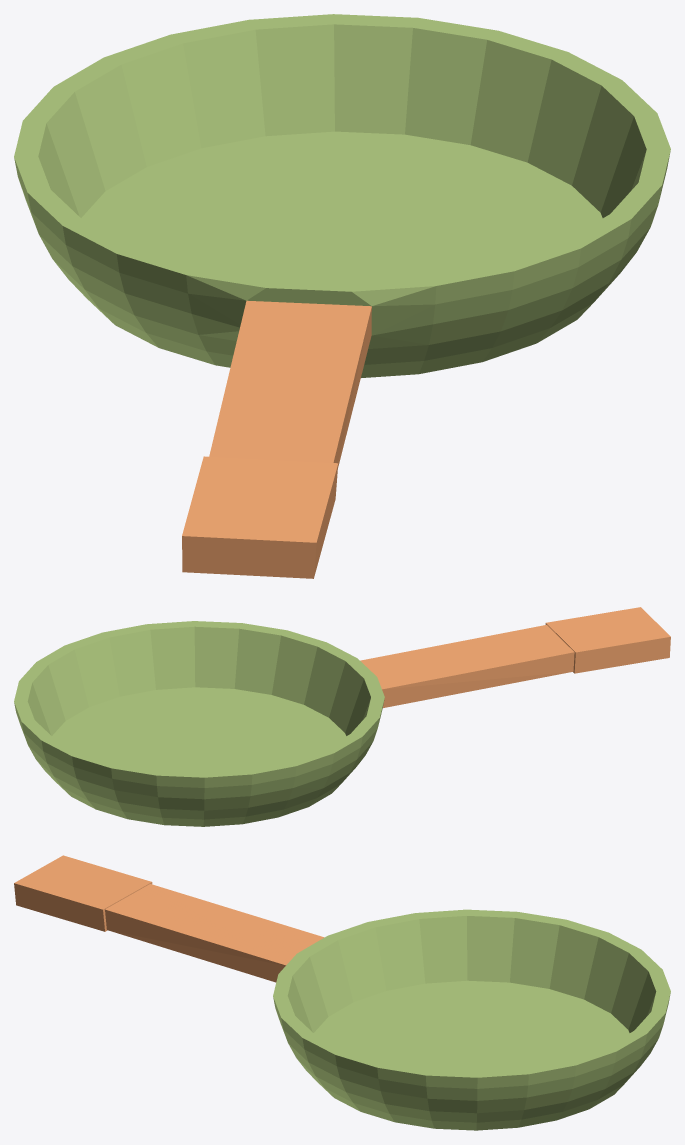
Rendered from pan.obj.
The picture shows the model from 3 angles, top to bottom: view 1: azimuth 30°, elevation 25°; view 2: azimuth 150°, elevation 25°; view 3: azimuth 270°, elevation 25°; orthographic projection. The views are drawn at different scales.
Visible parts, largest first — view 1: Frying_pan_Cylinder.009; view 2: Frying_pan_Cylinder.009; view 3: Frying_pan_Cylinder.009.
Boxes of the visible parts, bbox=[...] form: Frying_pan_Cylinder.009: bbox=[14, 14, 670, 578]; Frying_pan_Cylinder.009: bbox=[14, 607, 670, 826]; Frying_pan_Cylinder.009: bbox=[14, 855, 670, 1130].
Bounding box in the file's own units: 1.08 × 0.1496 × 1.3.
